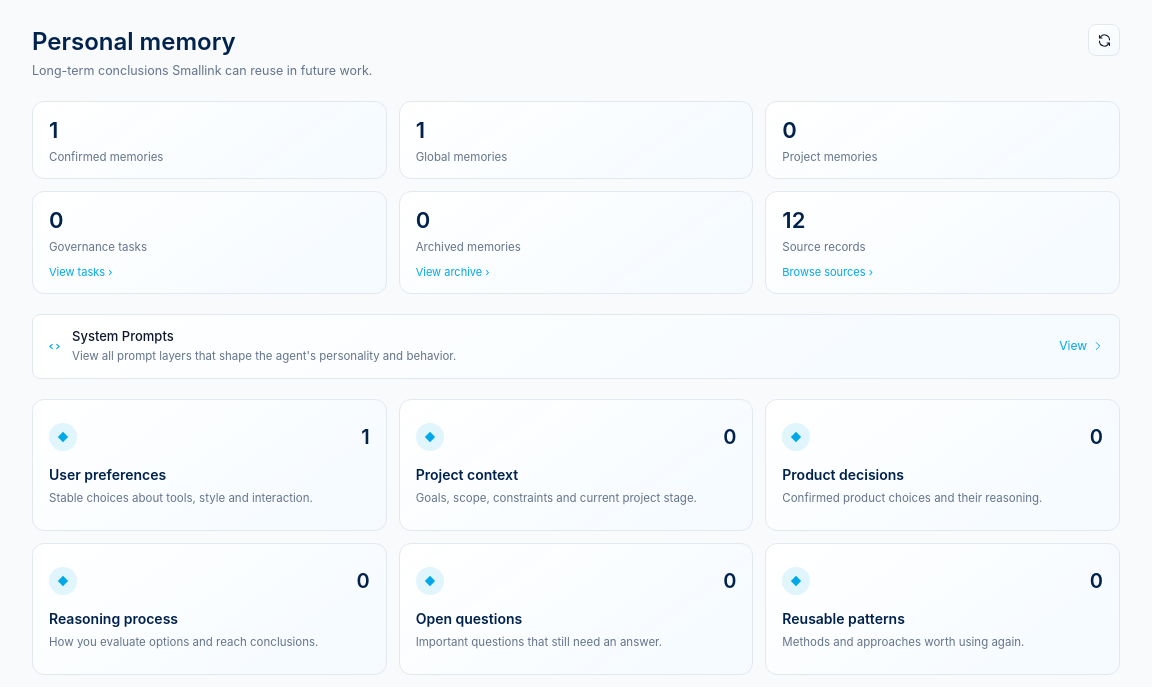
Test case: MemoryView › opens imported source data and shows record details
The image size is (1152, 687).
Click the button "12 Source records Browse sources ›" at {"x": 824, "y": 247}, box [765, 191, 1120, 294]
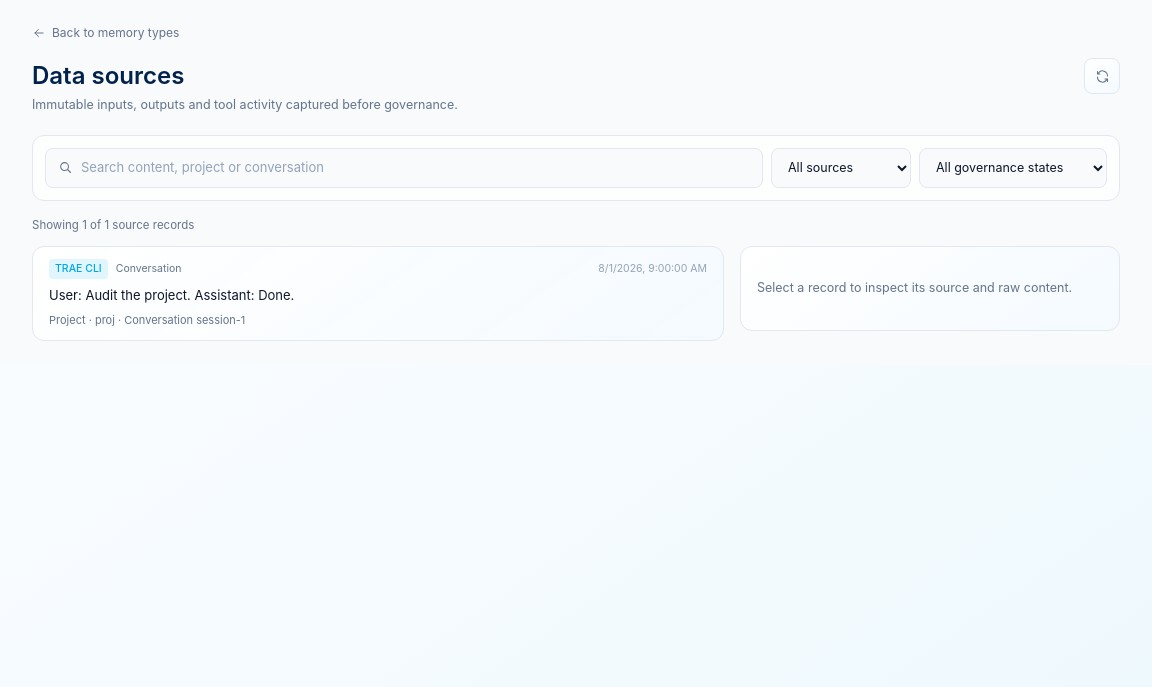
Expected: the heading "Data sources" is shown, [32, 61, 184, 90]
Click the text "User: Audit the project. Assistant: Done." at {"x": 172, "y": 295}, box [49, 287, 294, 303]
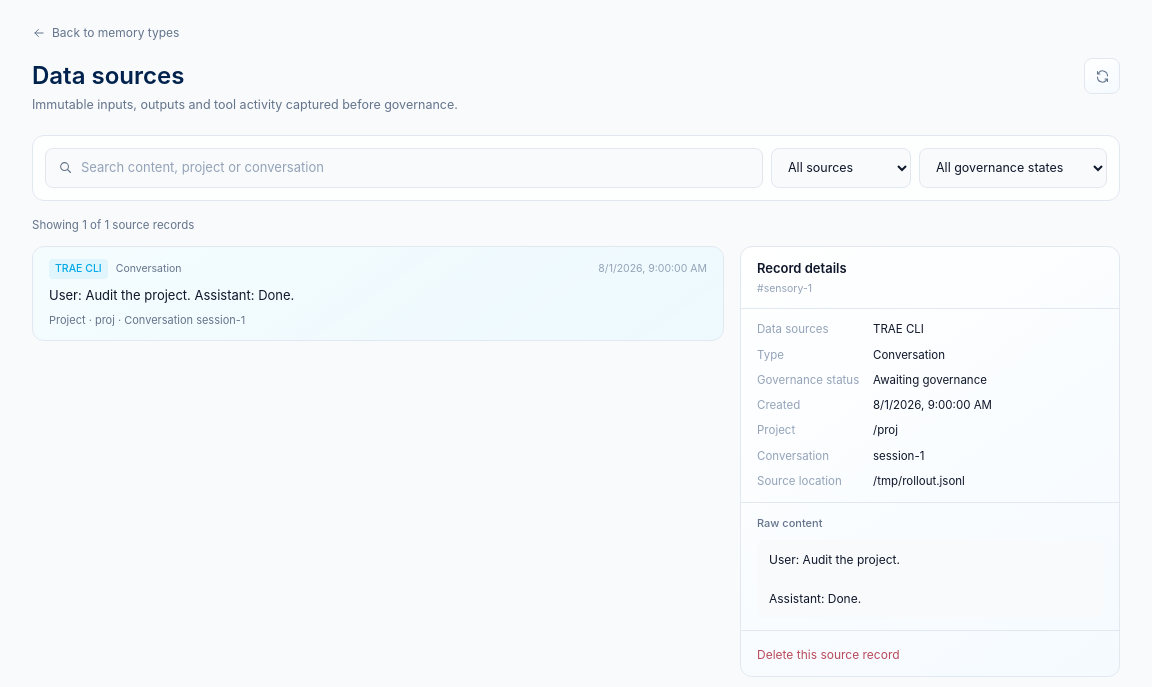
Expected: the text "Record details" is shown, [757, 260, 847, 276]
Expected: the text "/tmp/rollout.jsonl" is shown, [873, 474, 965, 488]
